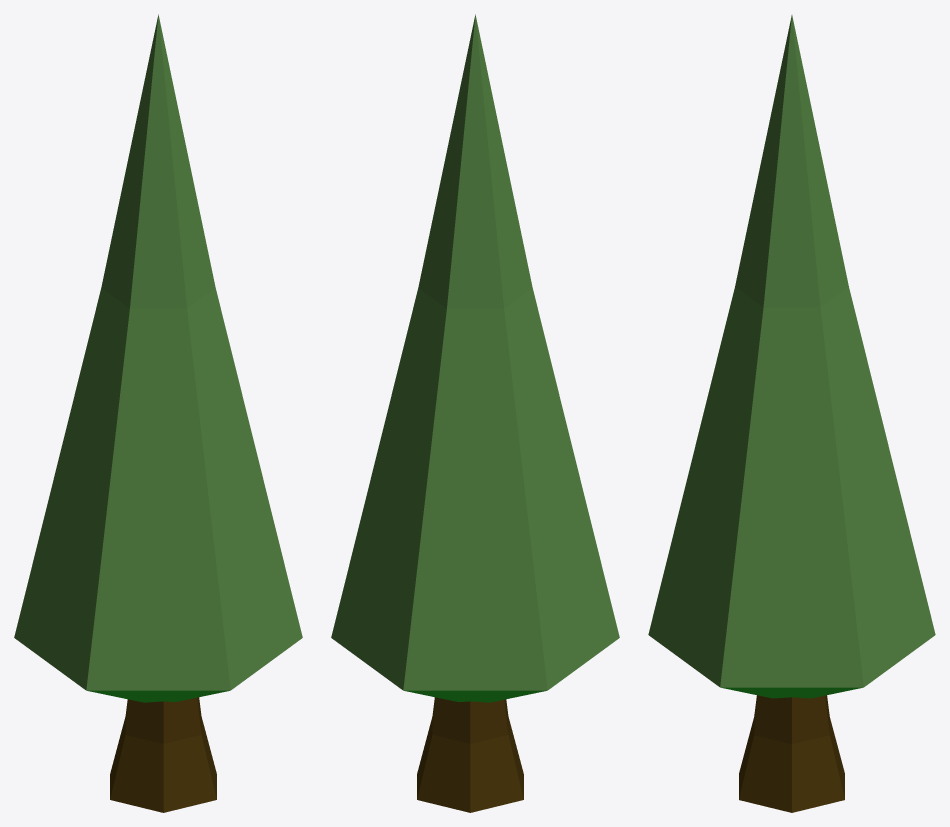
Rendered from Tree_4.fbx.
3 views of the same model, side by side, from view 1: azimuth 30°, elevation 25°; view 2: azimuth 150°, elevation 25°; view 3: azimuth 270°, elevation 25° (orthographic).
Visible parts, largest first — view 1: Tree_4; view 2: Tree_4; view 3: Tree_4.
Part boxes in pixels (x1,y1,x2,y2): Tree_4: (14,14,302,812); Tree_4: (331,14,619,812); Tree_4: (648,15,935,812).
Bounding box in the file's own units: 4.06 × 13.86 × 4.68.
